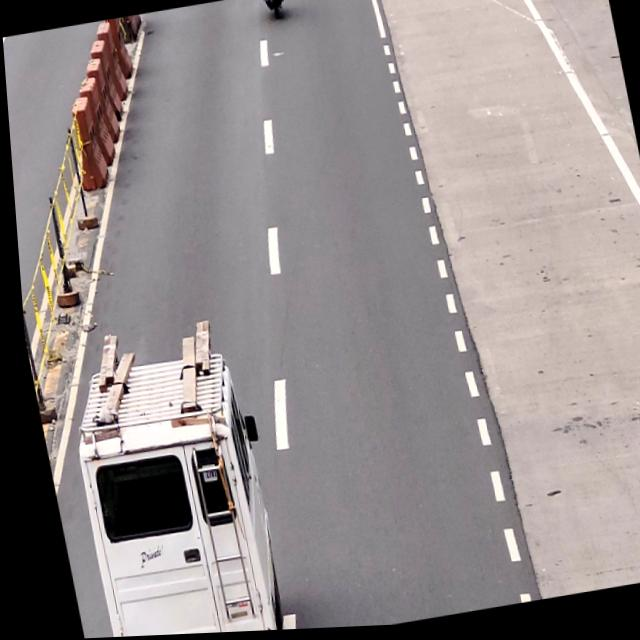Truck: (56, 348, 277, 639)
